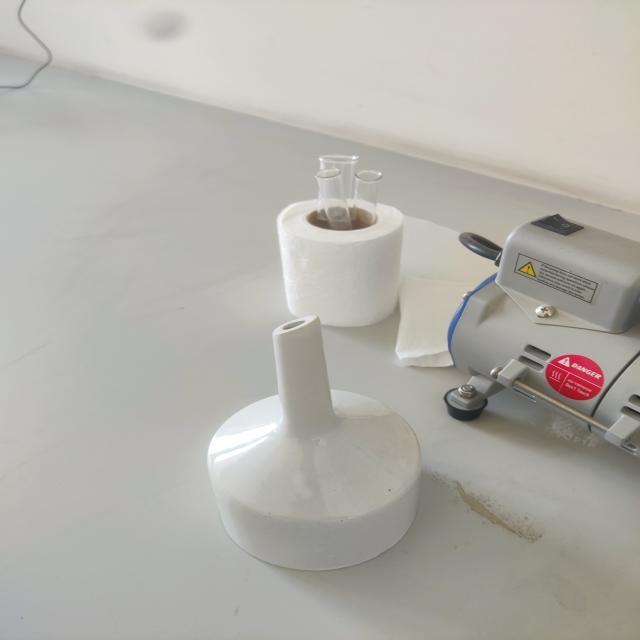Buchner_Funnel: (173, 298, 458, 588)
